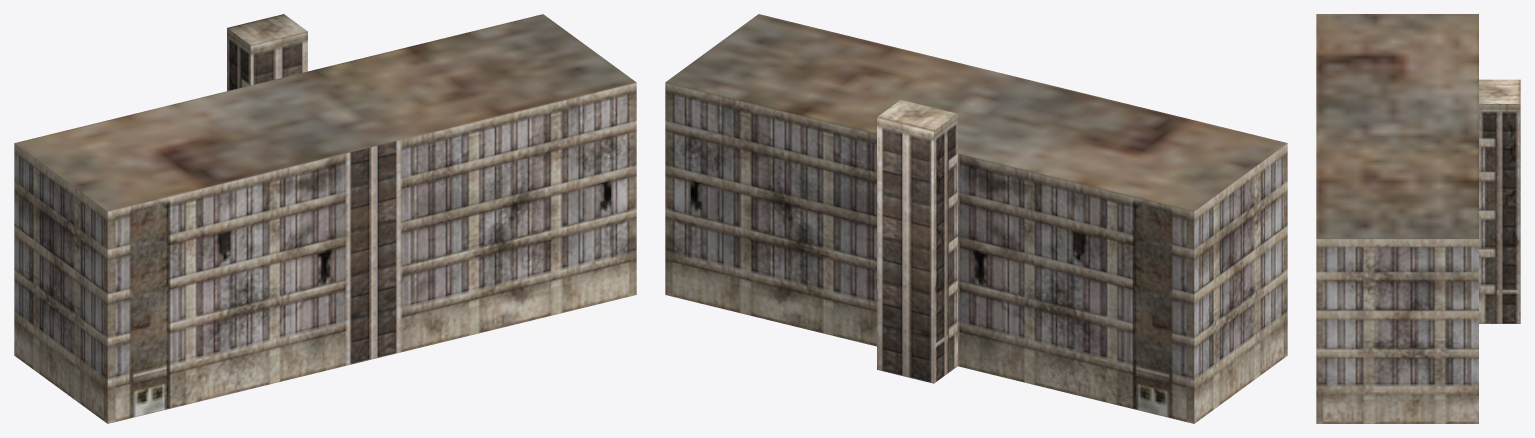
Rendered from Background_Building_5.fbx.
3 views of the same model, side by side, from view 1: azimuth 30°, elevation 25°; view 2: azimuth 150°, elevation 25°; view 3: azimuth 270°, elevation 25° (orthographic). The views are drawn at different scales.
Visible parts, largest first — view 1: Background_Building_5; view 2: Background_Building_5; view 3: Background_Building_5.
Part boxes in pixels (left/top/right/bottom): Background_Building_5: left=14, top=14, right=636, bottom=423; Background_Building_5: left=665, top=14, right=1287, bottom=423; Background_Building_5: left=1316, top=14, right=1520, bottom=423.
Bounding box in the file's own units: 4730 × 2158 × 1816.
